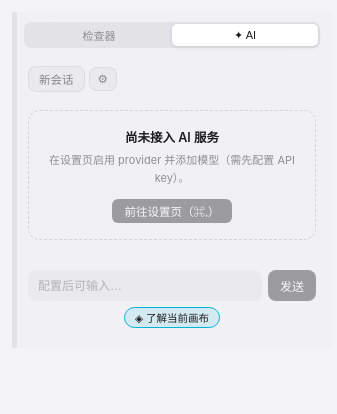
Scenario: AiThread 新会话（issue #89） › 非空线程两步确认：第一次点击不清空，第二次清空并落盘空会话
This screenshot has width=337, height=414.
Type "丰富旁白" into the field named "AI 对话输入".
click(145, 286); type("丰富旁白")  # box [28, 270, 262, 301]
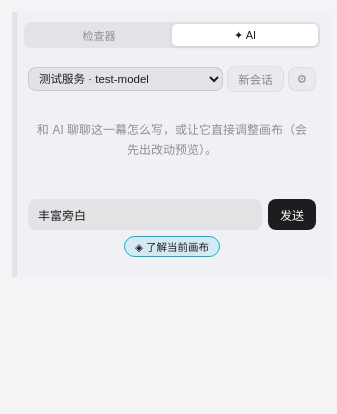
Press Enter in the field named "AI 对话输入", box [28, 199, 262, 230]
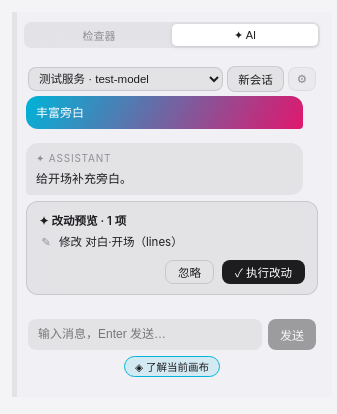
Check: the field named "AI 对话输入" is shown, box [28, 319, 262, 350]
Check: the text "给开场补充旁白。" is shown, box [36, 171, 132, 186]
Click the button "新会话".
click(255, 79)  # box [227, 66, 284, 92]
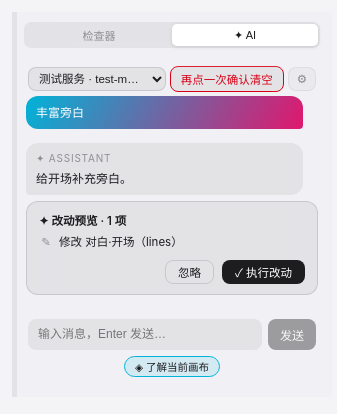
Check: the text "给开场补充旁白。" is shown, box [36, 171, 132, 186]
Check: the button "再点一次确认清空" is shown
Click the button "再点一次确认清空".
click(227, 79)  # box [170, 66, 284, 92]
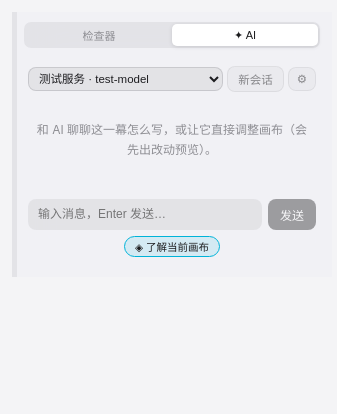
Check: the text "给开场补充旁白。" is gone
Check: the text "和 AI 聊聊这一幕怎么写，或让它直接调整画布（会先出改动预览）。" is shown, box [36, 120, 308, 161]
